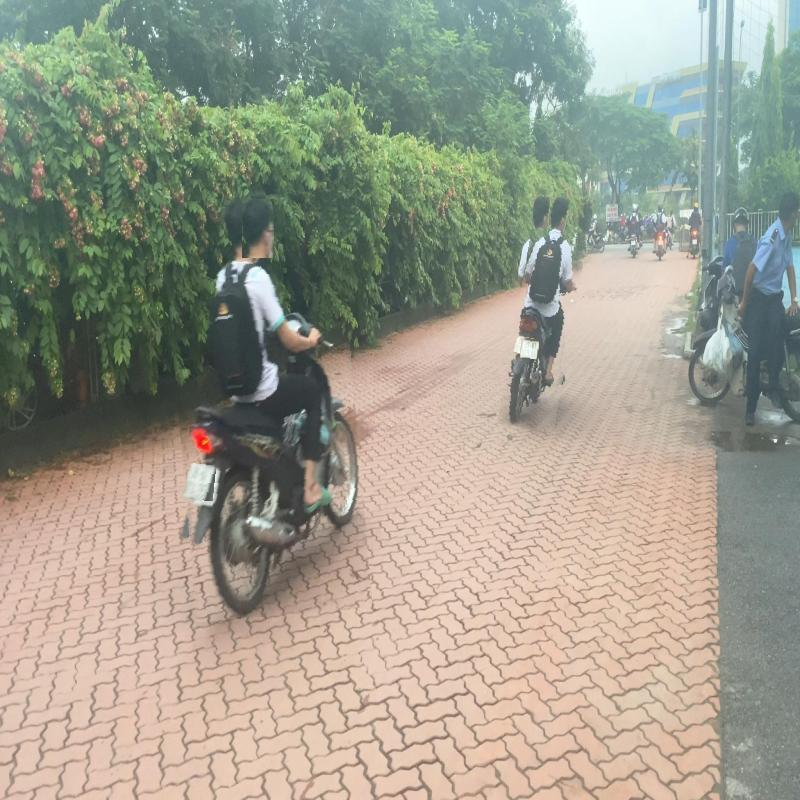licenseplate: (184, 463, 215, 501), (520, 338, 539, 359)
motorcyclist: (169, 192, 364, 619), (507, 190, 584, 431)
nohelmet: (242, 199, 274, 258), (534, 195, 550, 229)
